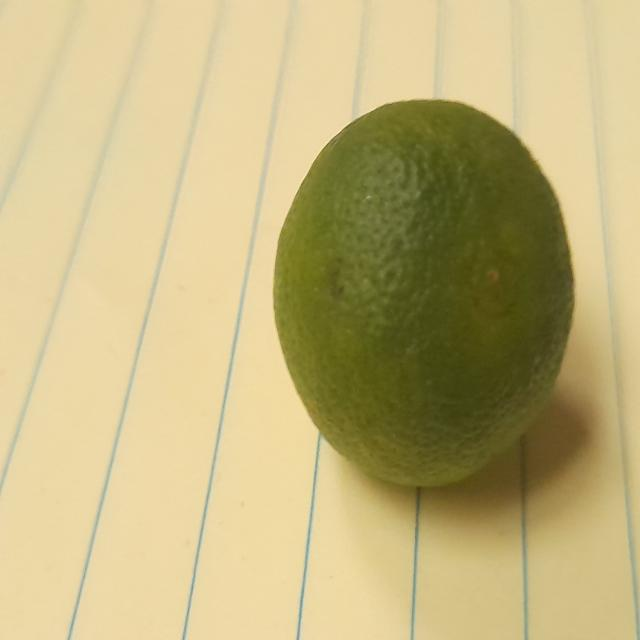heathy: (268, 91, 582, 499)
